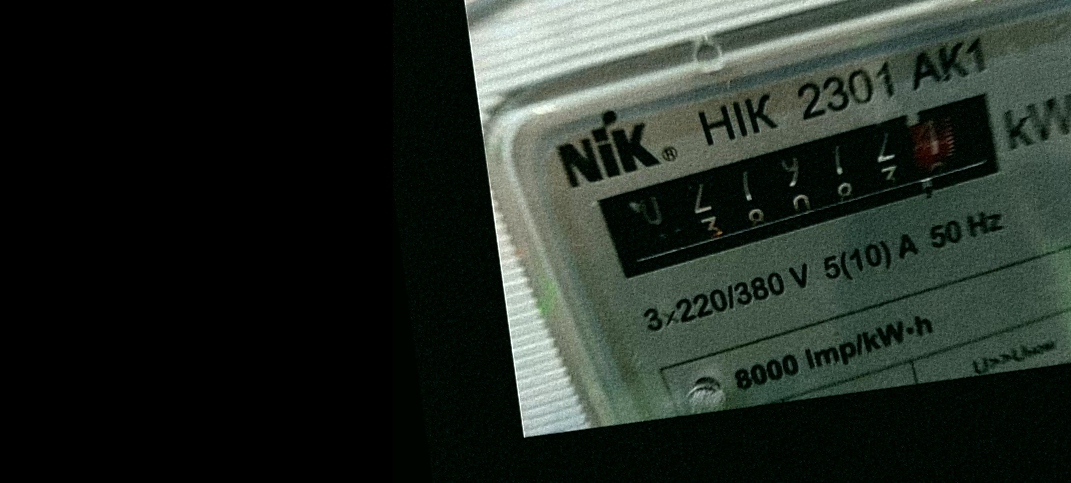0: (636, 189, 668, 228)
1: (921, 113, 949, 159)
2: (683, 173, 717, 216), (868, 124, 901, 164)
7: (822, 135, 853, 179), (732, 164, 760, 204)
9: (778, 150, 808, 189)
screen: (574, 78, 1043, 292)
